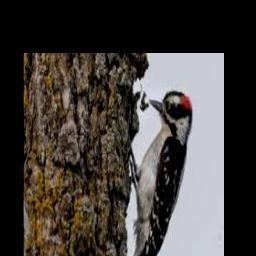Woodpecker: (129, 91, 193, 256)
